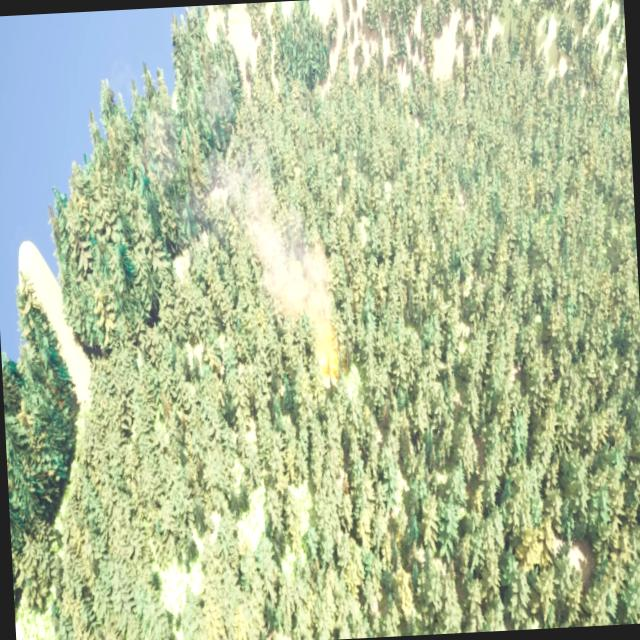fire: (312, 319, 344, 380)
smoke: (216, 132, 338, 338)
